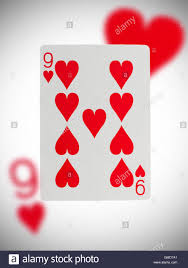nine of hearts: (39, 46, 152, 201)
